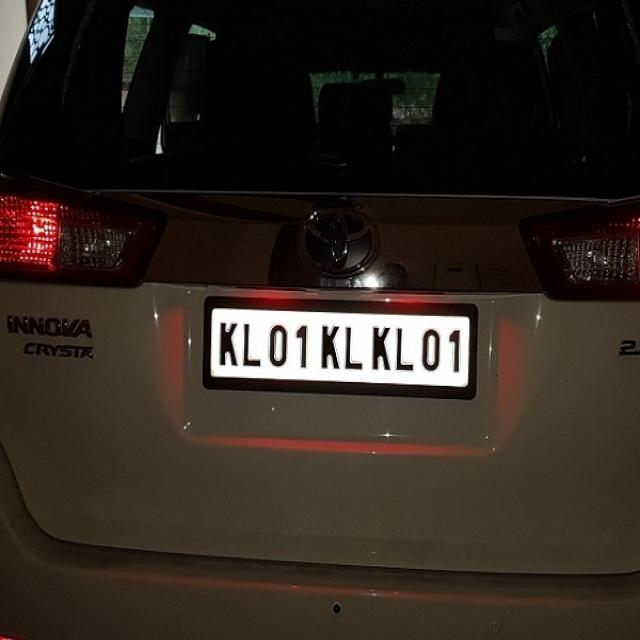number_plate: (208, 298, 470, 384)
